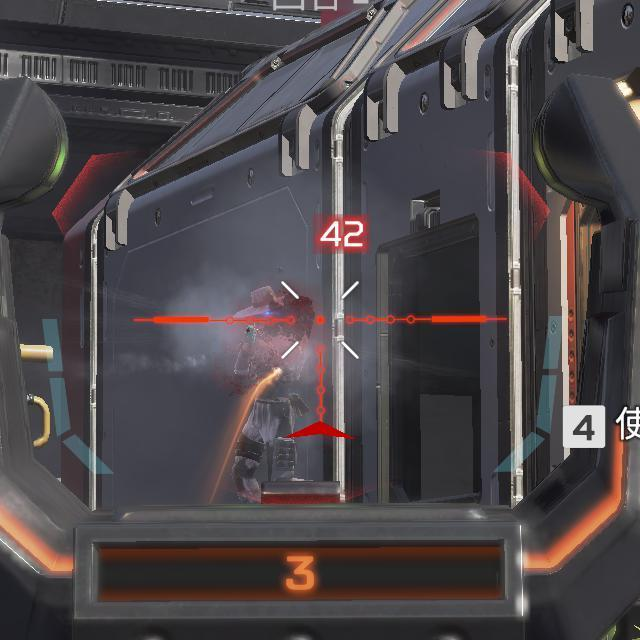avatar: (228, 285, 316, 506)
